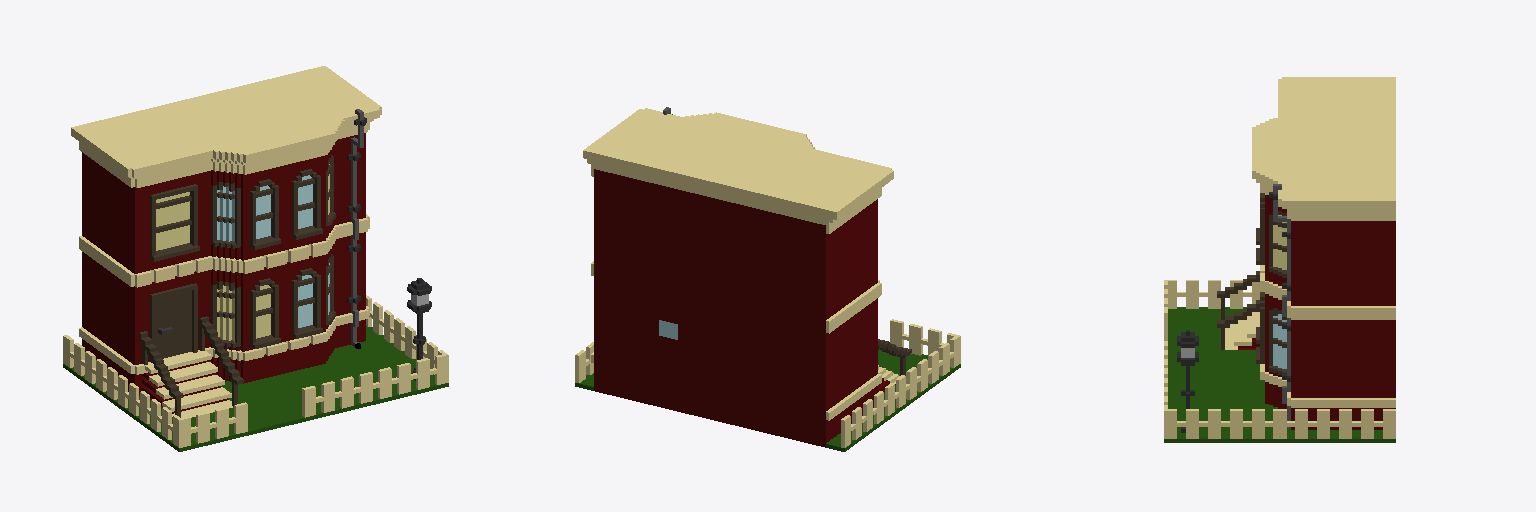
3 renders of one model, left to right at view 1: azimuth 30°, elevation 25°; view 2: azimuth 150°, elevation 25°; view 3: azimuth 270°, elevation 25°, orthographic.
Size of the model in its own units: 71 by 61 by 53.
1 materials, 1 textured.